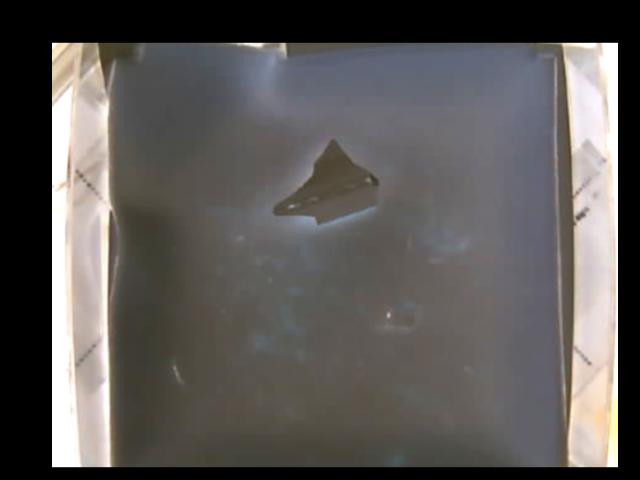China: (272, 140, 381, 227)
